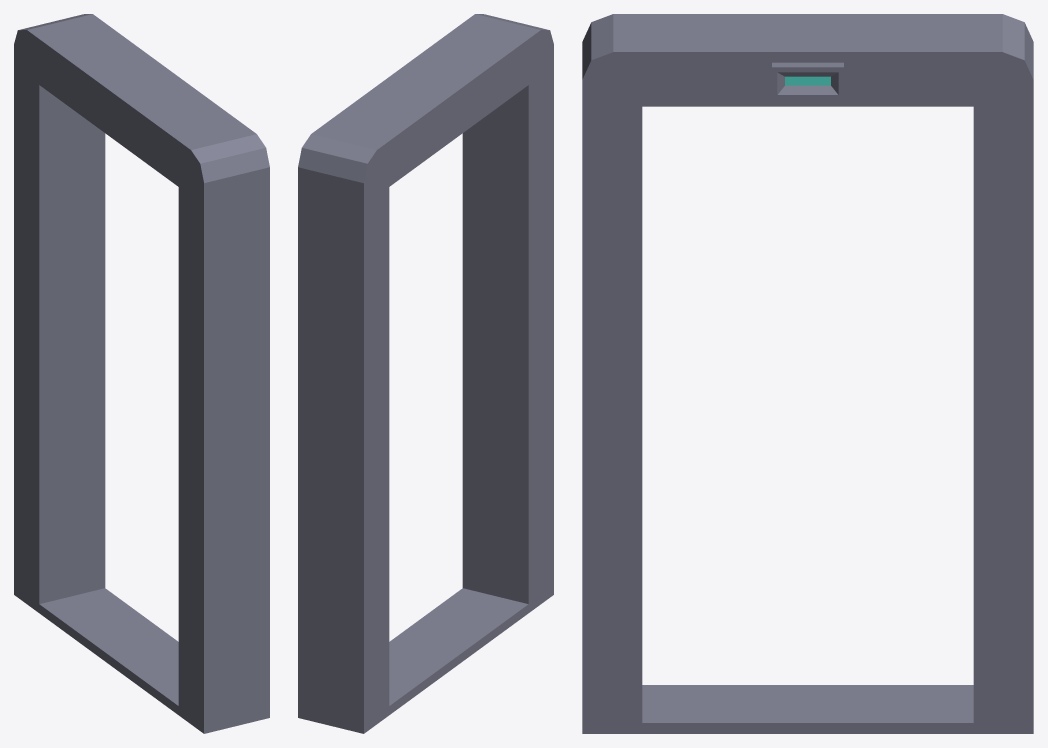
Rendered from door_left_0.glb.
3 views of the same model, side by side, from view 1: azimuth 30°, elevation 25°; view 2: azimuth 150°, elevation 25°; view 3: azimuth 270°, elevation 25° (orthographic). The views are drawn at different scales.
Visible parts, largest first — view 1: door_left_0; view 2: door_left_0; view 3: door_left_0.
Boxes of the visible parts, left/top/right/bottom form: door_left_0: left=14, top=14, right=269, bottom=733; door_left_0: left=298, top=14, right=553, bottom=733; door_left_0: left=582, top=14, right=1033, bottom=733.
Size of the model in its own units: 0.3368 by 2.5 by 1.5.
Materials: 1 (1 with a texture image).
